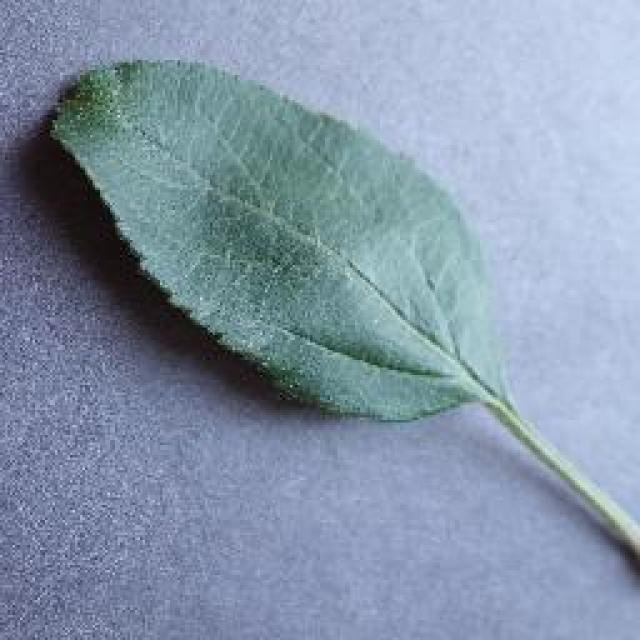Apple___healthy: (46, 57, 513, 423)
